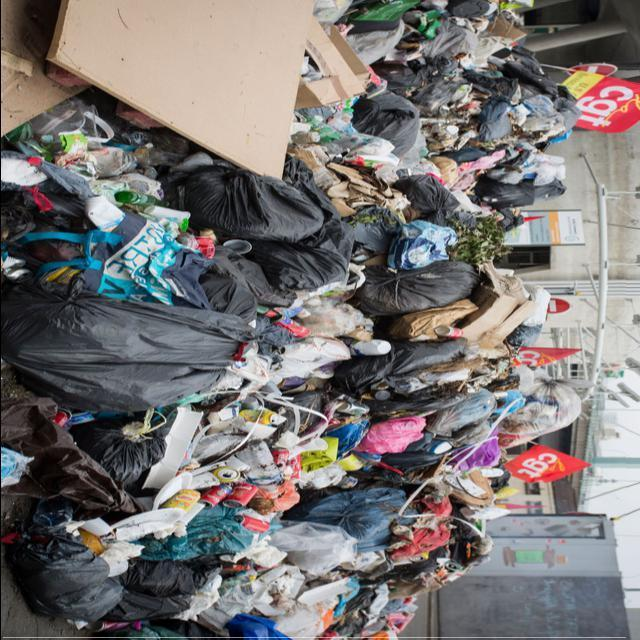Trashbag: (23, 290, 209, 411), (197, 167, 304, 241), (24, 536, 99, 626), (258, 248, 348, 296), (313, 493, 394, 539), (367, 266, 459, 306), (398, 176, 463, 226), (358, 95, 418, 148), (148, 568, 196, 632), (96, 420, 149, 477), (346, 351, 406, 395), (495, 60, 553, 91)
